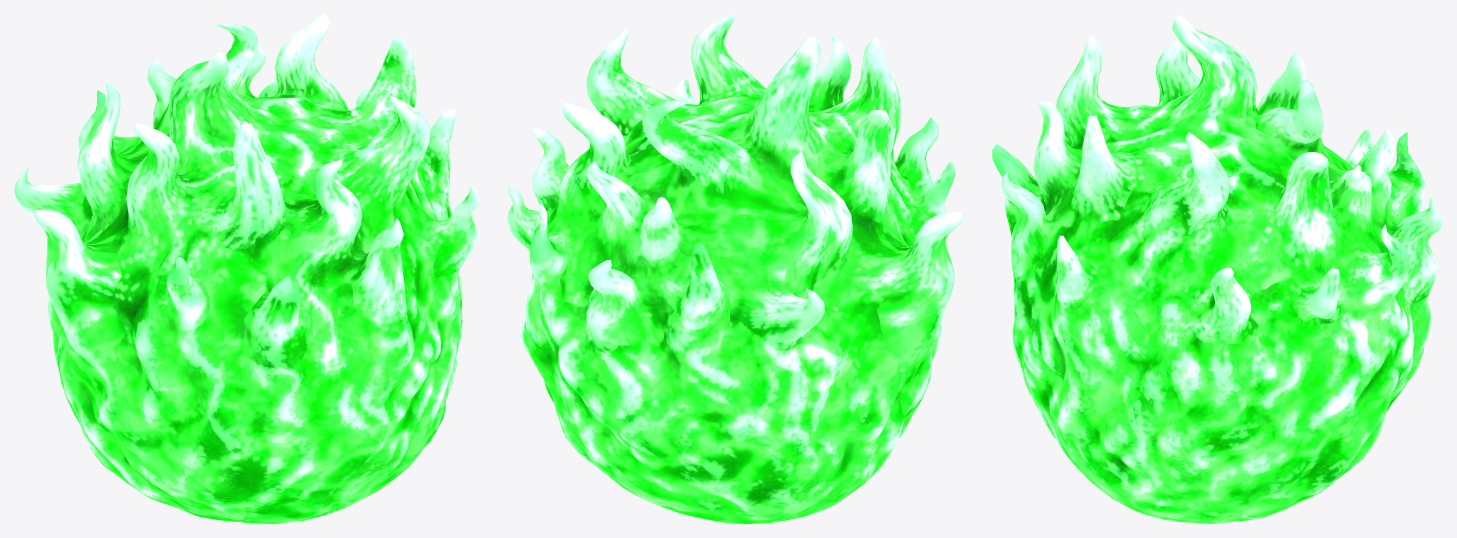
File: MZ4250 - Flaming Sphere_green.glb
The picture shows the model from 3 angles, left to right: view 1: azimuth 30°, elevation 25°; view 2: azimuth 150°, elevation 25°; view 3: azimuth 270°, elevation 25°; orthographic projection. The views are drawn at different scales.
Visible parts, largest first — view 1: ORGANIC BASE SPHERE.001; view 2: ORGANIC BASE SPHERE.001; view 3: ORGANIC BASE SPHERE.001.
Boxes of the visible parts, x1=… form: ORGANIC BASE SPHERE.001: x1=14, y1=14, x2=478, y2=523; ORGANIC BASE SPHERE.001: x1=507, y1=14, x2=963, y2=523; ORGANIC BASE SPHERE.001: x1=992, y1=14, x2=1442, y2=523.
Bounding box in the file's own units: 0.8524 × 0.9058 × 0.8049.
Materials: 1 (1 with a texture image).
